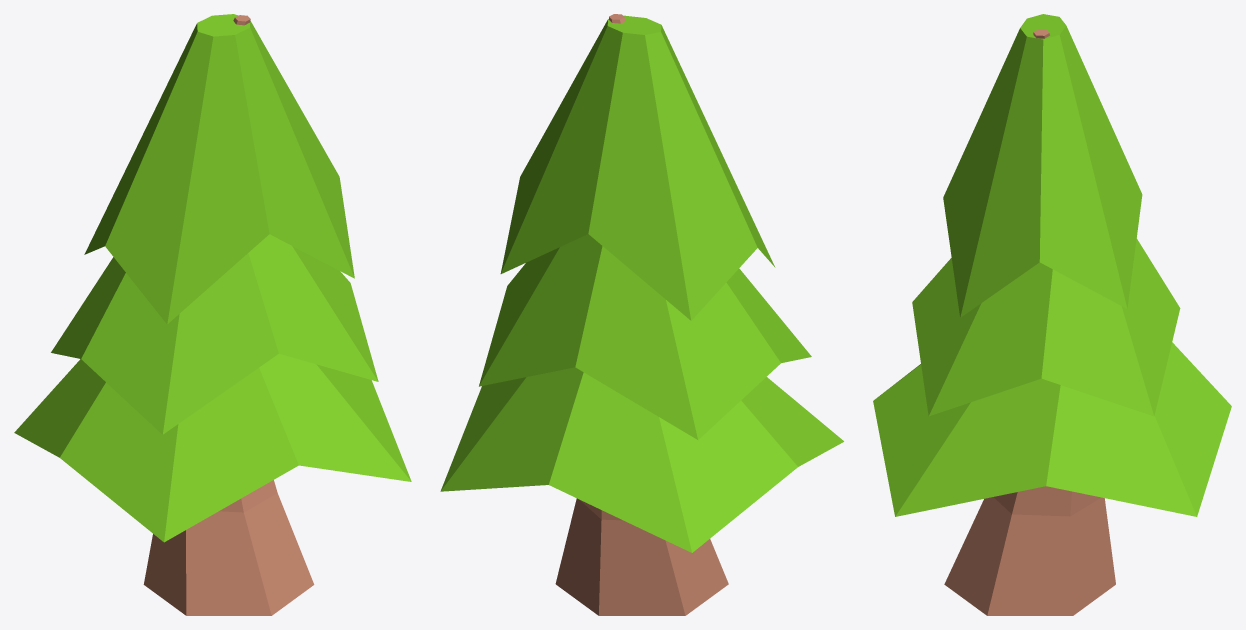
The model's file is tree_2.fbx.
The picture shows the model from 3 angles, left to right: view 1: azimuth 30°, elevation 25°; view 2: azimuth 150°, elevation 25°; view 3: azimuth 270°, elevation 25°; orthographic projection.
Parts seen in each view (by area): view 1: Circle.003, Circle.001, Circle.002, Circle; view 2: Circle.003, Circle.001, Circle.002, Circle; view 3: Circle.003, Circle.001, Circle.002, Circle.
Part boxes in pixels (left/top/right/bottom): Circle.003: left=84, top=14, right=354, bottom=324; Circle.001: left=14, top=353, right=411, bottom=542; Circle.002: left=51, top=234, right=378, bottom=434; Circle: left=143, top=15, right=314, bottom=615; Circle.003: left=500, top=15, right=775, bottom=320; Circle.001: left=440, top=367, right=843, bottom=552; Circle.002: left=479, top=234, right=811, bottom=439; Circle: left=555, top=14, right=728, bottom=615; Circle.003: left=943, top=14, right=1142, bottom=317; Circle.001: left=873, top=342, right=1231, bottom=516; Circle.002: left=912, top=238, right=1180, bottom=416; Circle: left=944, top=29, right=1115, bottom=615.
Size of the model in its own units: 164 by 283 by 164.
